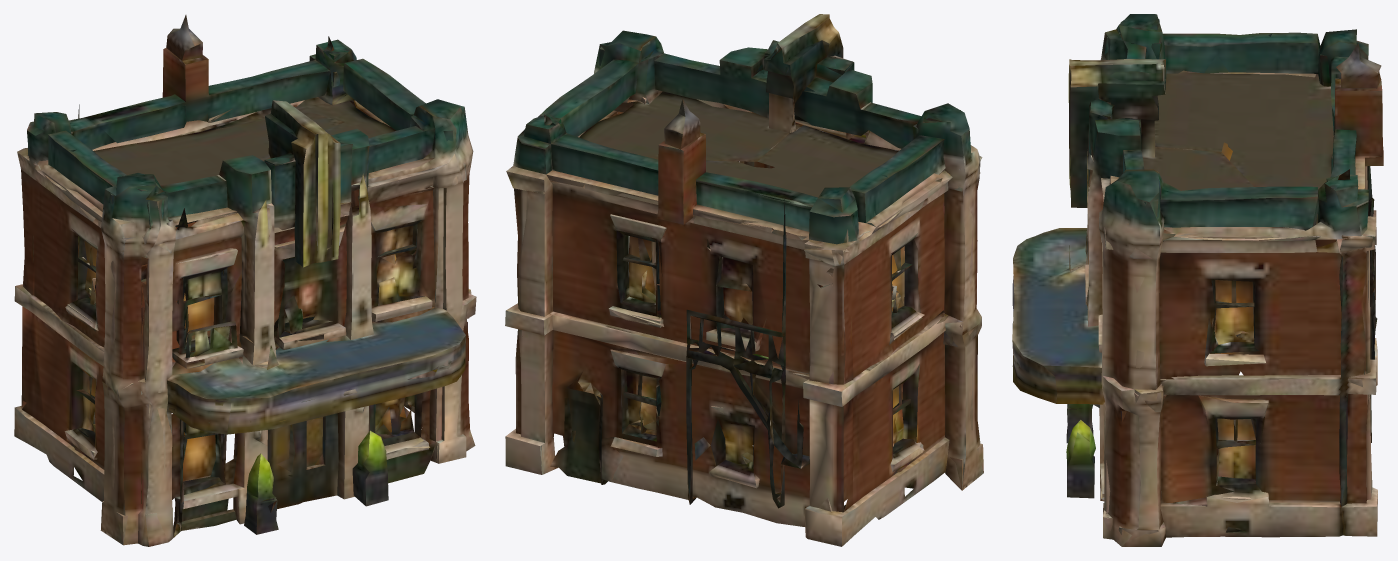
3 views of the same model, side by side, from view 1: azimuth 30°, elevation 25°; view 2: azimuth 150°, elevation 25°; view 3: azimuth 270°, elevation 25° (orthographic). The views are drawn at different scales.
Visible parts, largest first — view 1: expansion__hotel_2__neural_lod; view 2: expansion__hotel_2__neural_lod; view 3: expansion__hotel_2__neural_lod.
Part boxes in pixels (x1,y1,x2,y2): expansion__hotel_2__neural_lod: (14,15,476,546); expansion__hotel_2__neural_lod: (505,14,983,546); expansion__hotel_2__neural_lod: (1012,14,1383,546).
Bounding box in the file's own units: 0.9252 × 0.9881 × 0.7804.
1 material, 1 textured.
